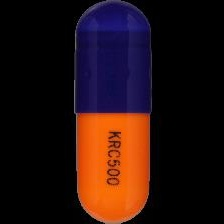61442-172: (0, 0, 224, 224)
